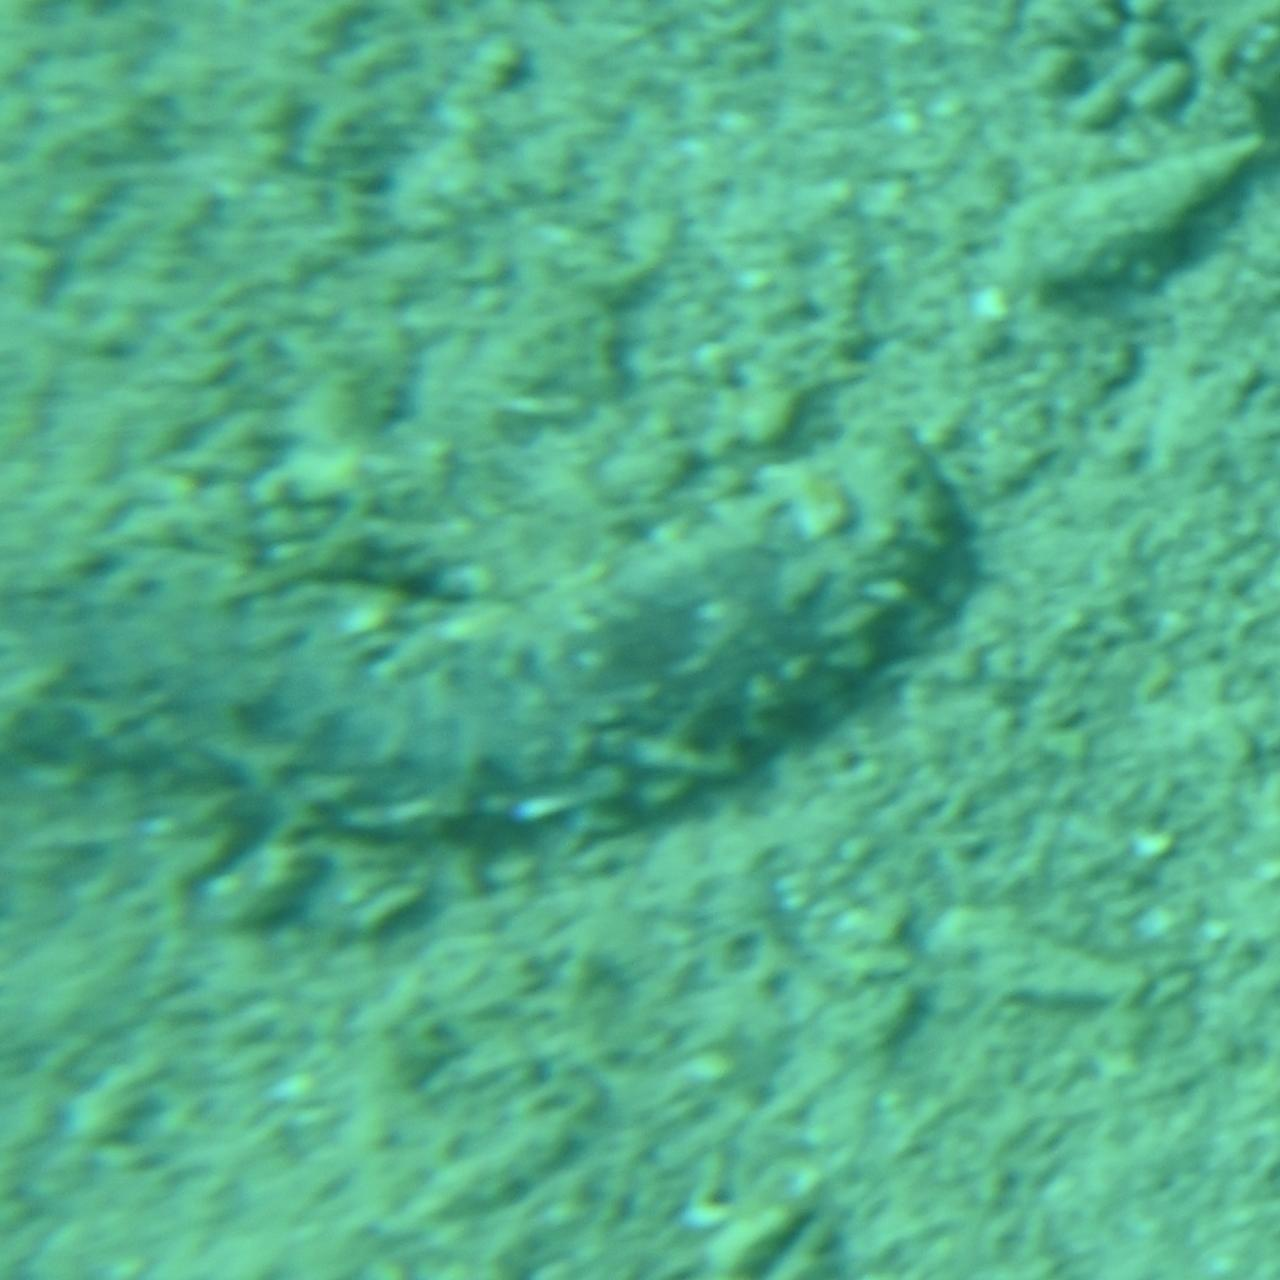Holothuria tubulosa: (2, 400, 971, 880)
